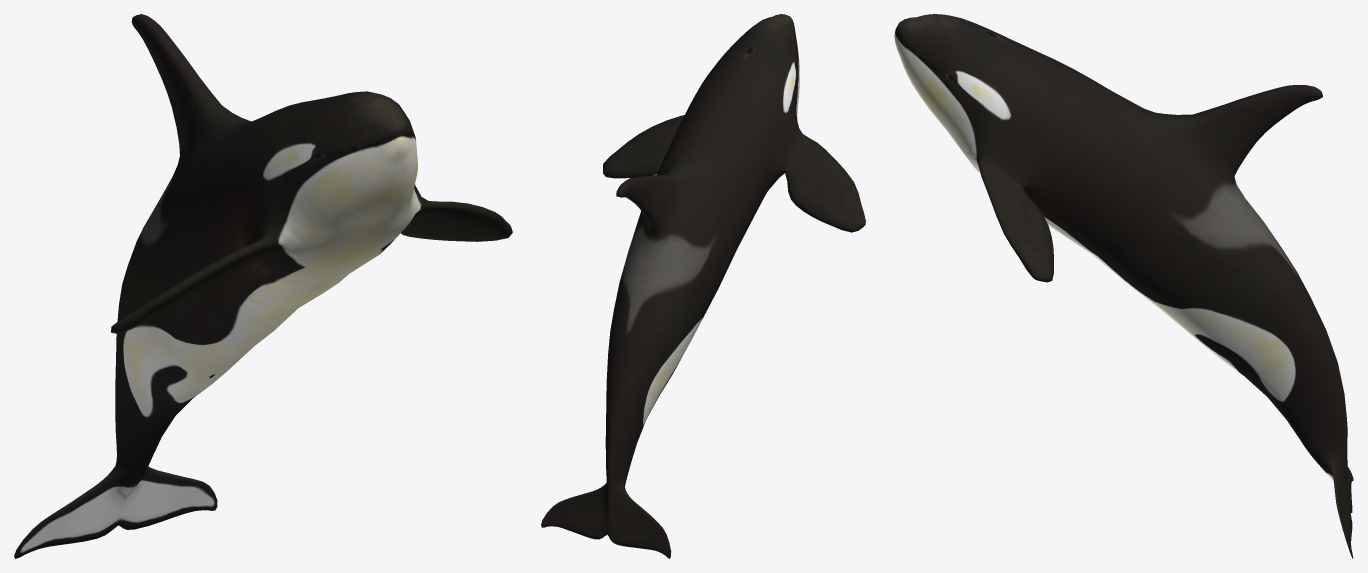
The model's file is kiillerwhaleobj.obj.
3 views of the same model, side by side, from view 1: azimuth 30°, elevation 25°; view 2: azimuth 150°, elevation 25°; view 3: azimuth 270°, elevation 25° (orthographic). The views are drawn at different scales.
Parts seen in each view (by area): view 1: joint1, joint8, joint4, joint2, joint3, joint14; view 2: joint1, joint8, joint3, joint4, joint2, joint14; view 3: joint1, joint8, joint3, joint2, joint14, joint4.
Part boxes in pixels (bbox=[...]): joint1: bbox=[110, 91, 512, 333]; joint8: bbox=[128, 14, 298, 368]; joint4: bbox=[14, 466, 217, 558]; joint2: bbox=[175, 113, 337, 318]; joint3: bbox=[116, 266, 237, 419]; joint14: bbox=[108, 363, 174, 479]; joint1: bbox=[603, 14, 865, 235]; joint8: bbox=[614, 170, 736, 336]; joint3: bbox=[606, 309, 693, 419]; joint4: bbox=[541, 487, 671, 558]; joint2: bbox=[657, 145, 770, 248]; joint14: bbox=[598, 412, 645, 499]; joint1: bbox=[894, 14, 1181, 282]; joint8: bbox=[1094, 85, 1322, 328]; joint3: bbox=[1182, 251, 1337, 397]; joint2: bbox=[1034, 101, 1198, 256]; joint14: bbox=[1267, 363, 1347, 472]; joint4: bbox=[1317, 459, 1353, 558].
Bounding box in the file's own units: 4.73 × 7 × 5.79.
Materials: 1 (1 with a texture image).
